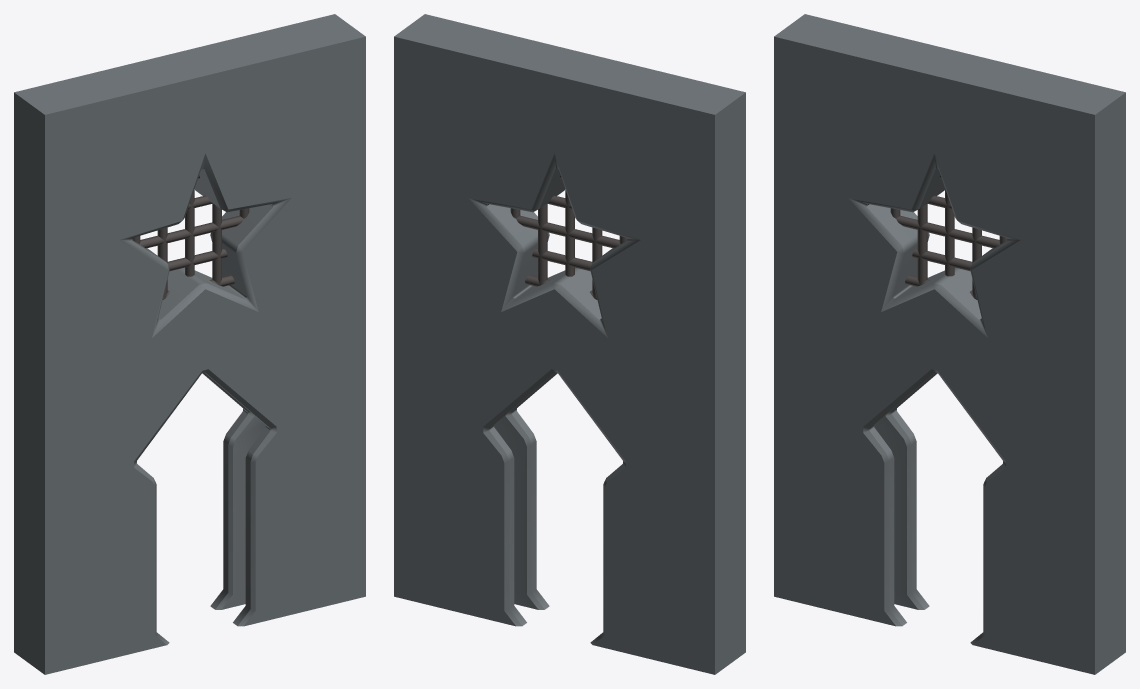
The model's file is wall_002.glb.
3 views of the same model, side by side, from view 1: azimuth 30°, elevation 25°; view 2: azimuth 150°, elevation 25°; view 3: azimuth 330°, elevation 25° (orthographic).
Visible parts, largest first — view 1: wall_002; view 2: wall_002; view 3: wall_002.
Part boxes in pixels (x1,y1,x2,y2): wall_002: (14,14,365,674); wall_002: (394,14,745,674); wall_002: (774,14,1125,674).
Bounding box in the file's own units: 6 × 10 × 1.
Materials: 1 (1 with a texture image).
